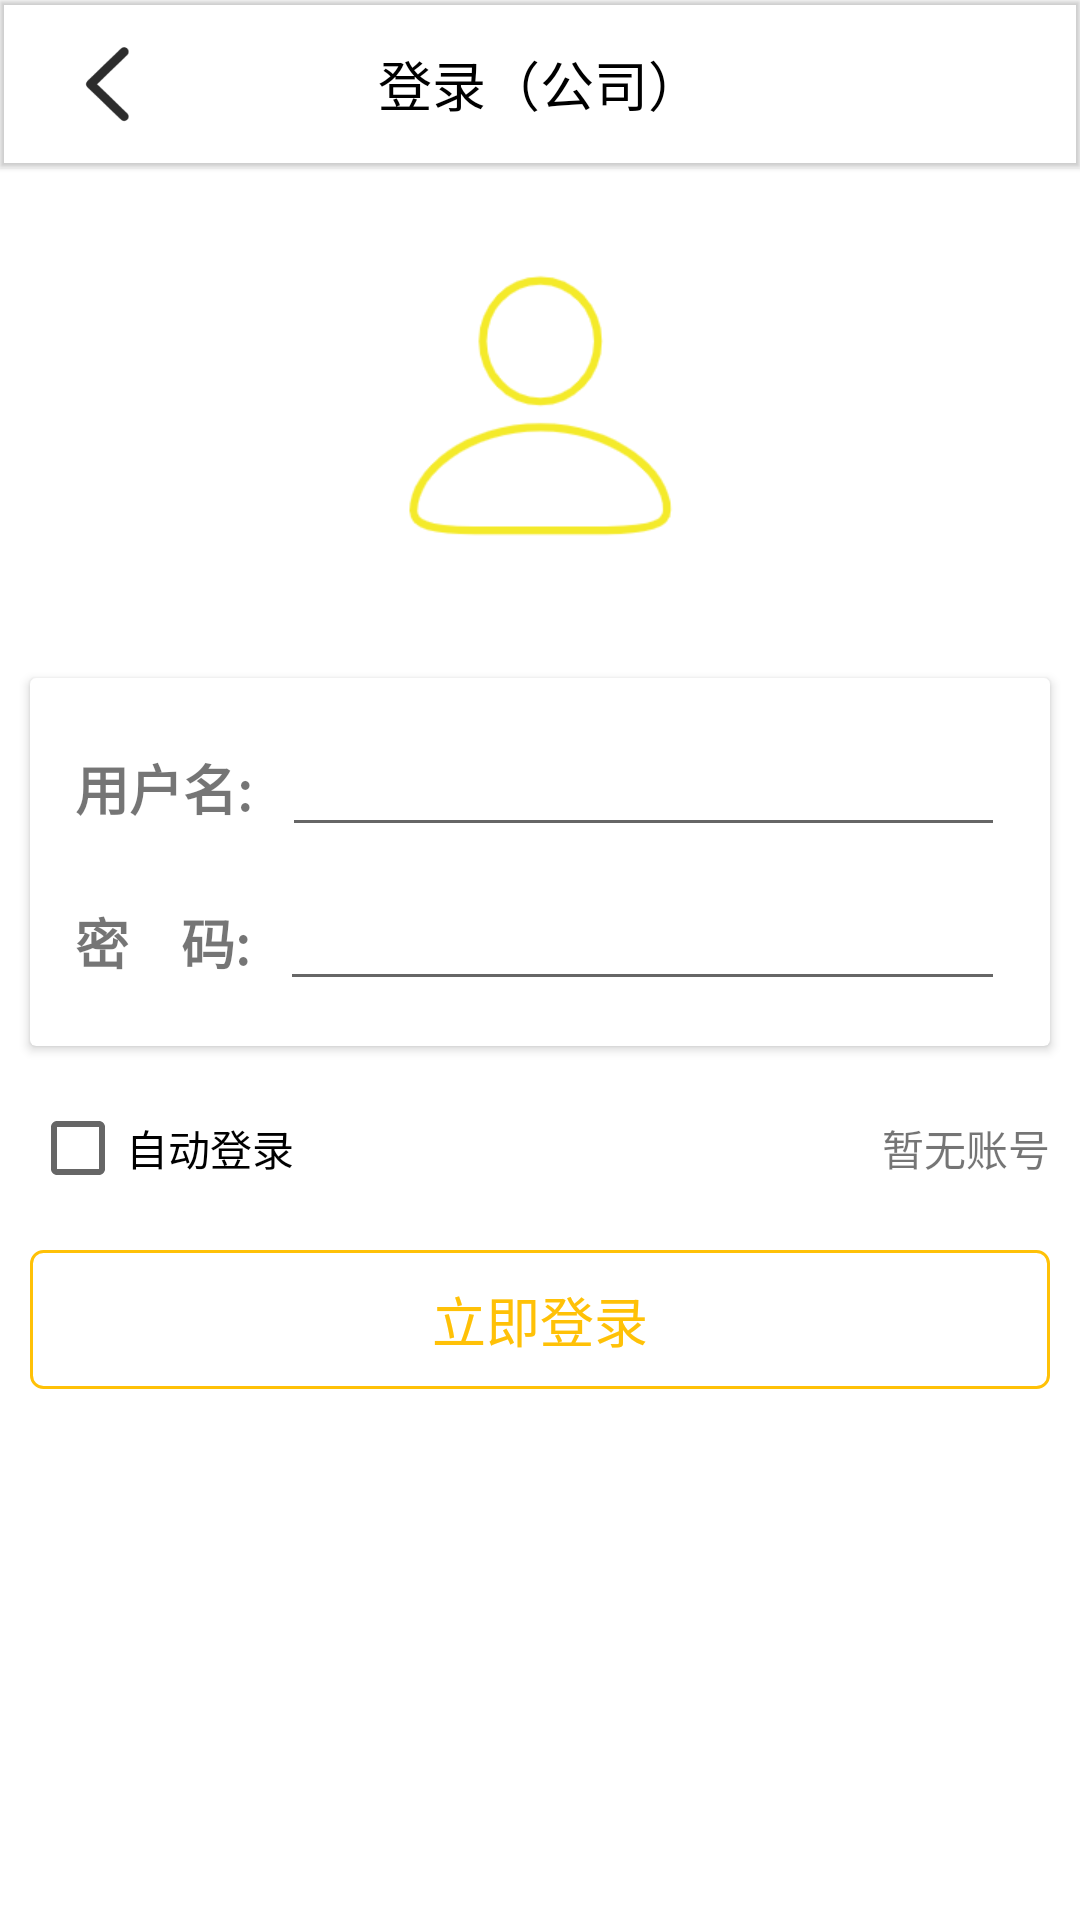

Named icons in this screenshot (1080x1920) and their bounding boxes, (x1, y1, x2, y2):
back: (86, 47, 129, 121)
